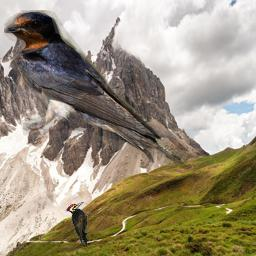Swallow: (4, 10, 190, 170)
Woodpecker: (65, 202, 91, 247)
